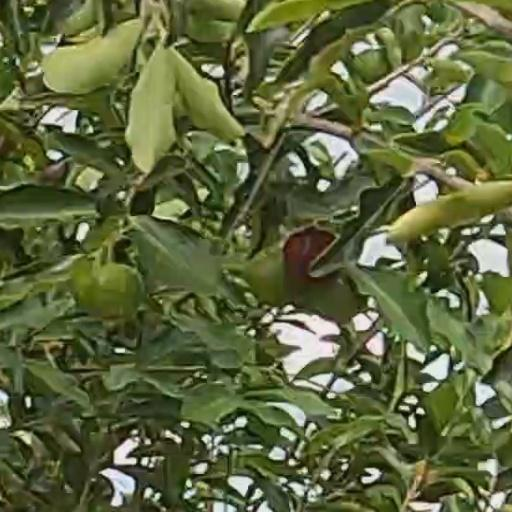acerola: (79, 267, 142, 317), (284, 229, 334, 277)
